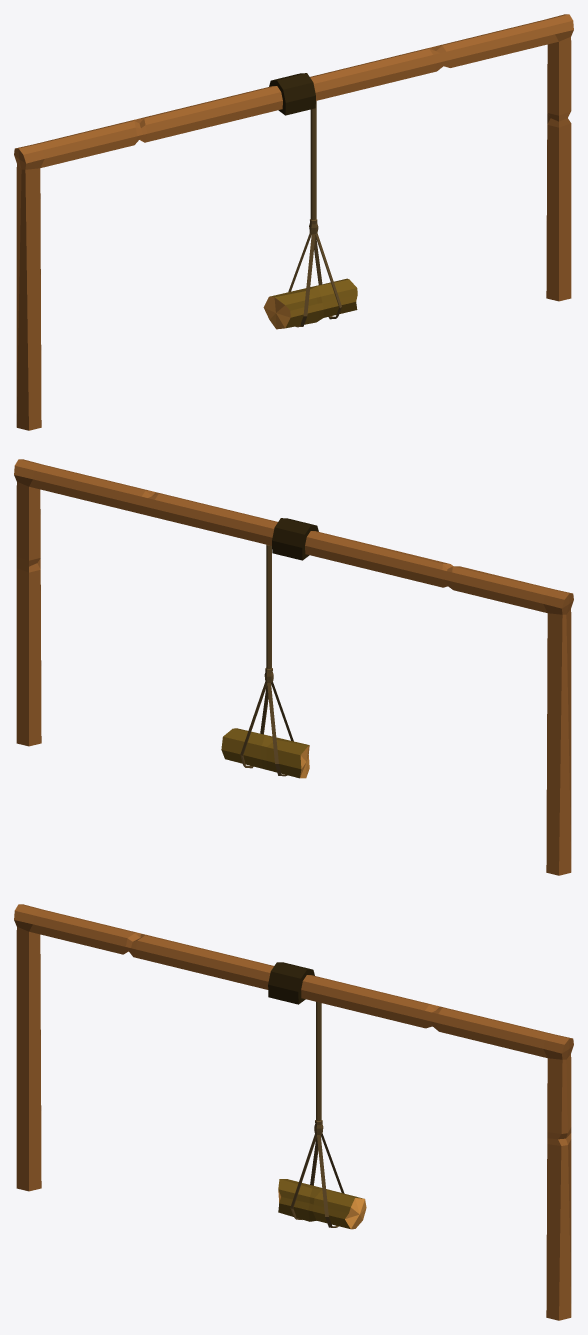
File: Trap_3.fbx
3 renders of one model, top to bottom at view 1: azimuth 30°, elevation 25°; view 2: azimuth 150°, elevation 25°; view 3: azimuth 330°, elevation 25°, orthographic.
Parts seen in each view (by area): view 1: Trap_3, Trap_3_3; view 2: Trap_3, Trap_3_3; view 3: Trap_3, Trap_3_3.
Part boxes in pixels (x1=…): Trap_3: x1=14, y1=14, x2=573, y2=430; Trap_3_3: x1=263, y1=101, x2=357, y2=329; Trap_3: x1=14, y1=459, x2=573, y2=875; Trap_3_3: x1=221, y1=544, x2=309, y2=778; Trap_3: x1=14, y1=904, x2=573, y2=1320; Trap_3_3: x1=278, y1=1002, x2=366, y2=1229.
Size of the model in its own units: 15.21 by 7.43 by 1.04.
